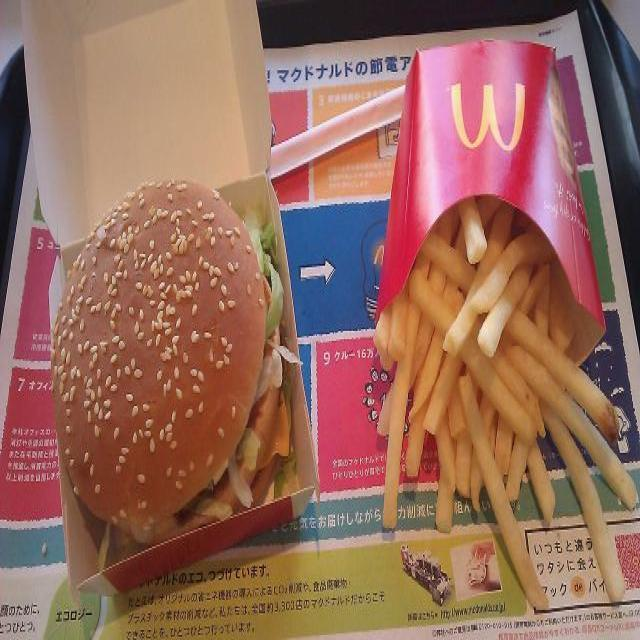French Fries: (370, 192, 632, 600)
Hamburger: (44, 166, 306, 527)
